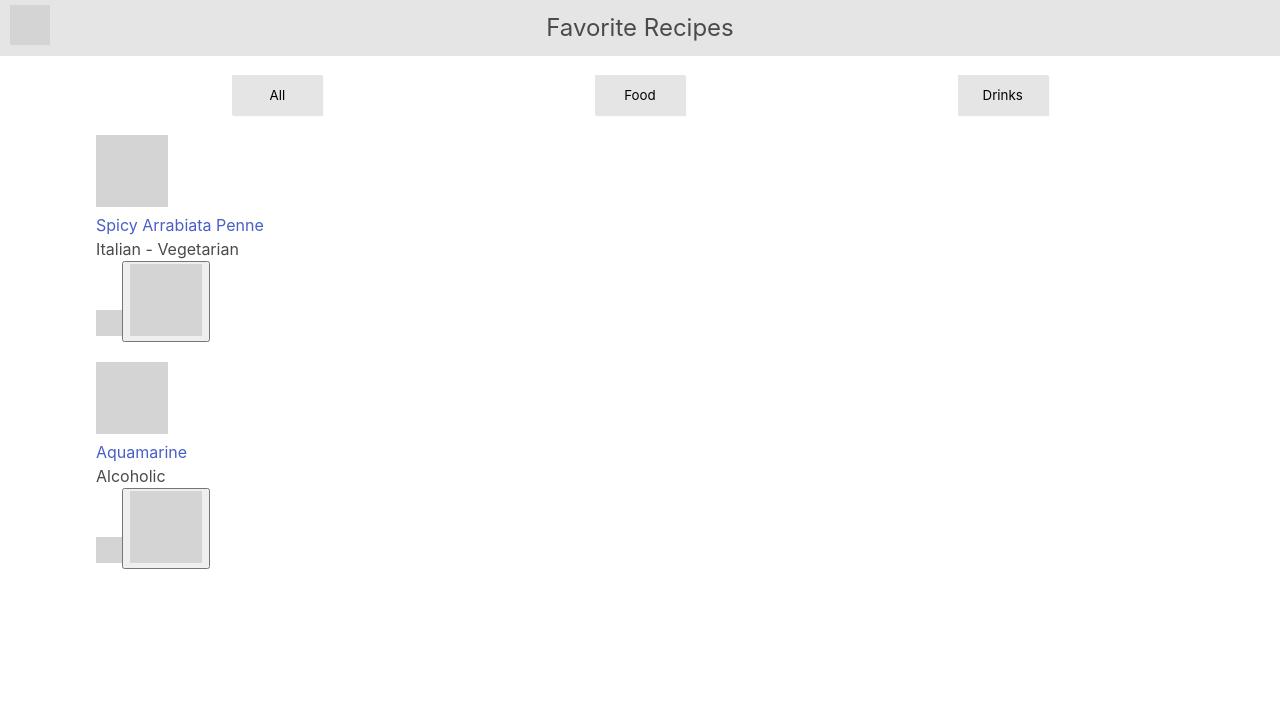
Scenario: Testa a página FavoriteRecipes › Os filtro Foods funciona corretamente
The image size is (1280, 720).
Click the button with test id "filter-by-food-btn" at (640, 95), box [595, 75, 685, 115]
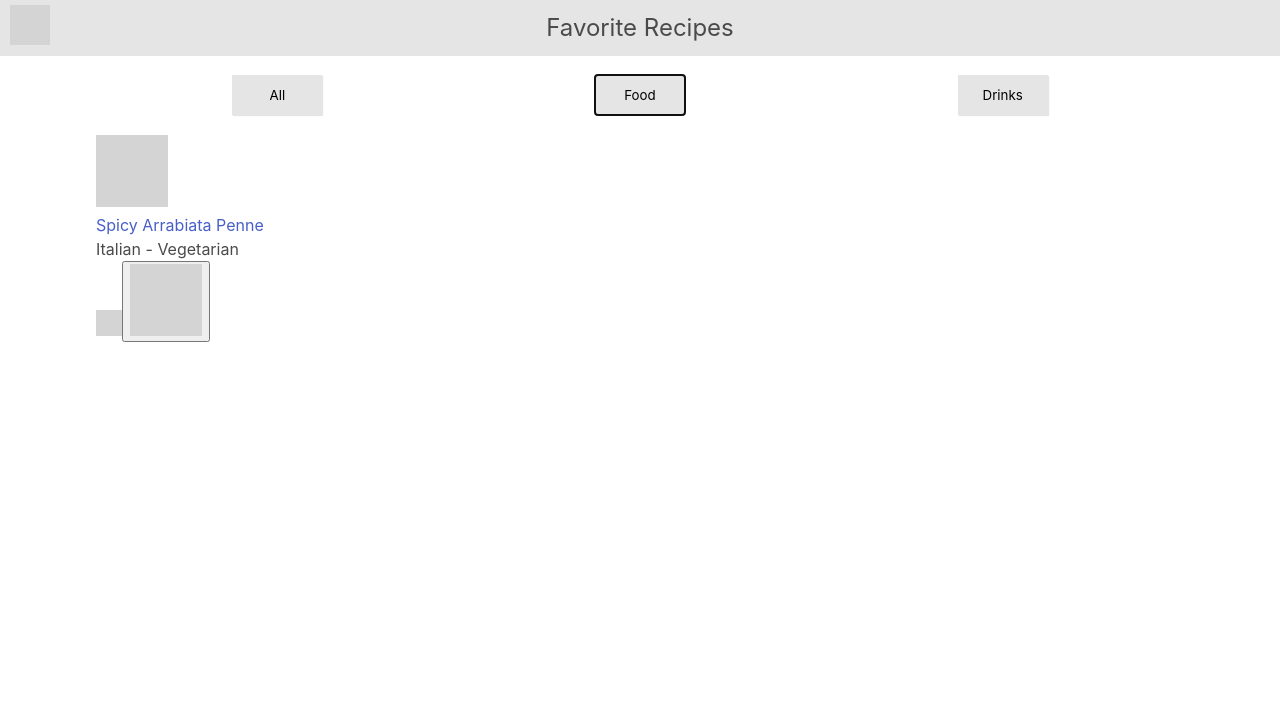
Now the link "Aquamarine" is gone
